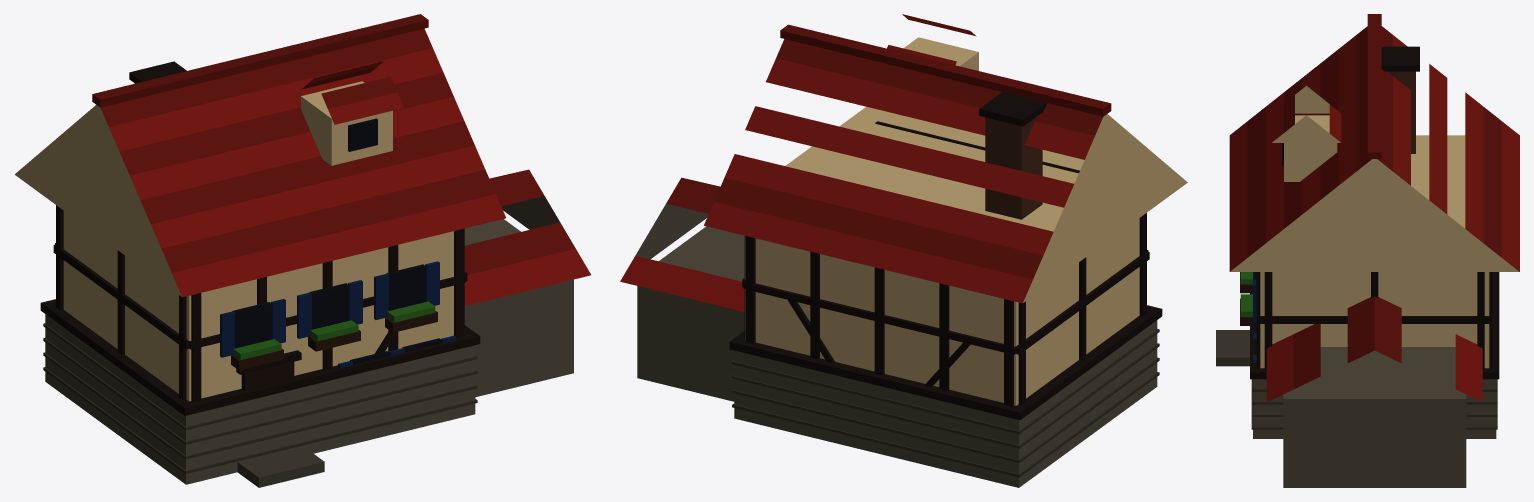
Rendered from valley-house-d.glb.
3 renders of one model, left to right at view 1: azimuth 30°, elevation 25°; view 2: azimuth 150°, elevation 25°; view 3: azimuth 270°, elevation 25°, orthographic. The views are drawn at different scales.
Parts seen in each view (by area): view 1: vh-d; view 2: vh-d; view 3: vh-d.
Boxes of the visible parts, box(x1,y1,x2,y2) form: vh-d: box(14, 14, 590, 487); vh-d: box(620, 14, 1187, 487); vh-d: box(1216, 14, 1519, 487).
Size of the model in its own units: 10.56 by 8.05 by 7.42.
